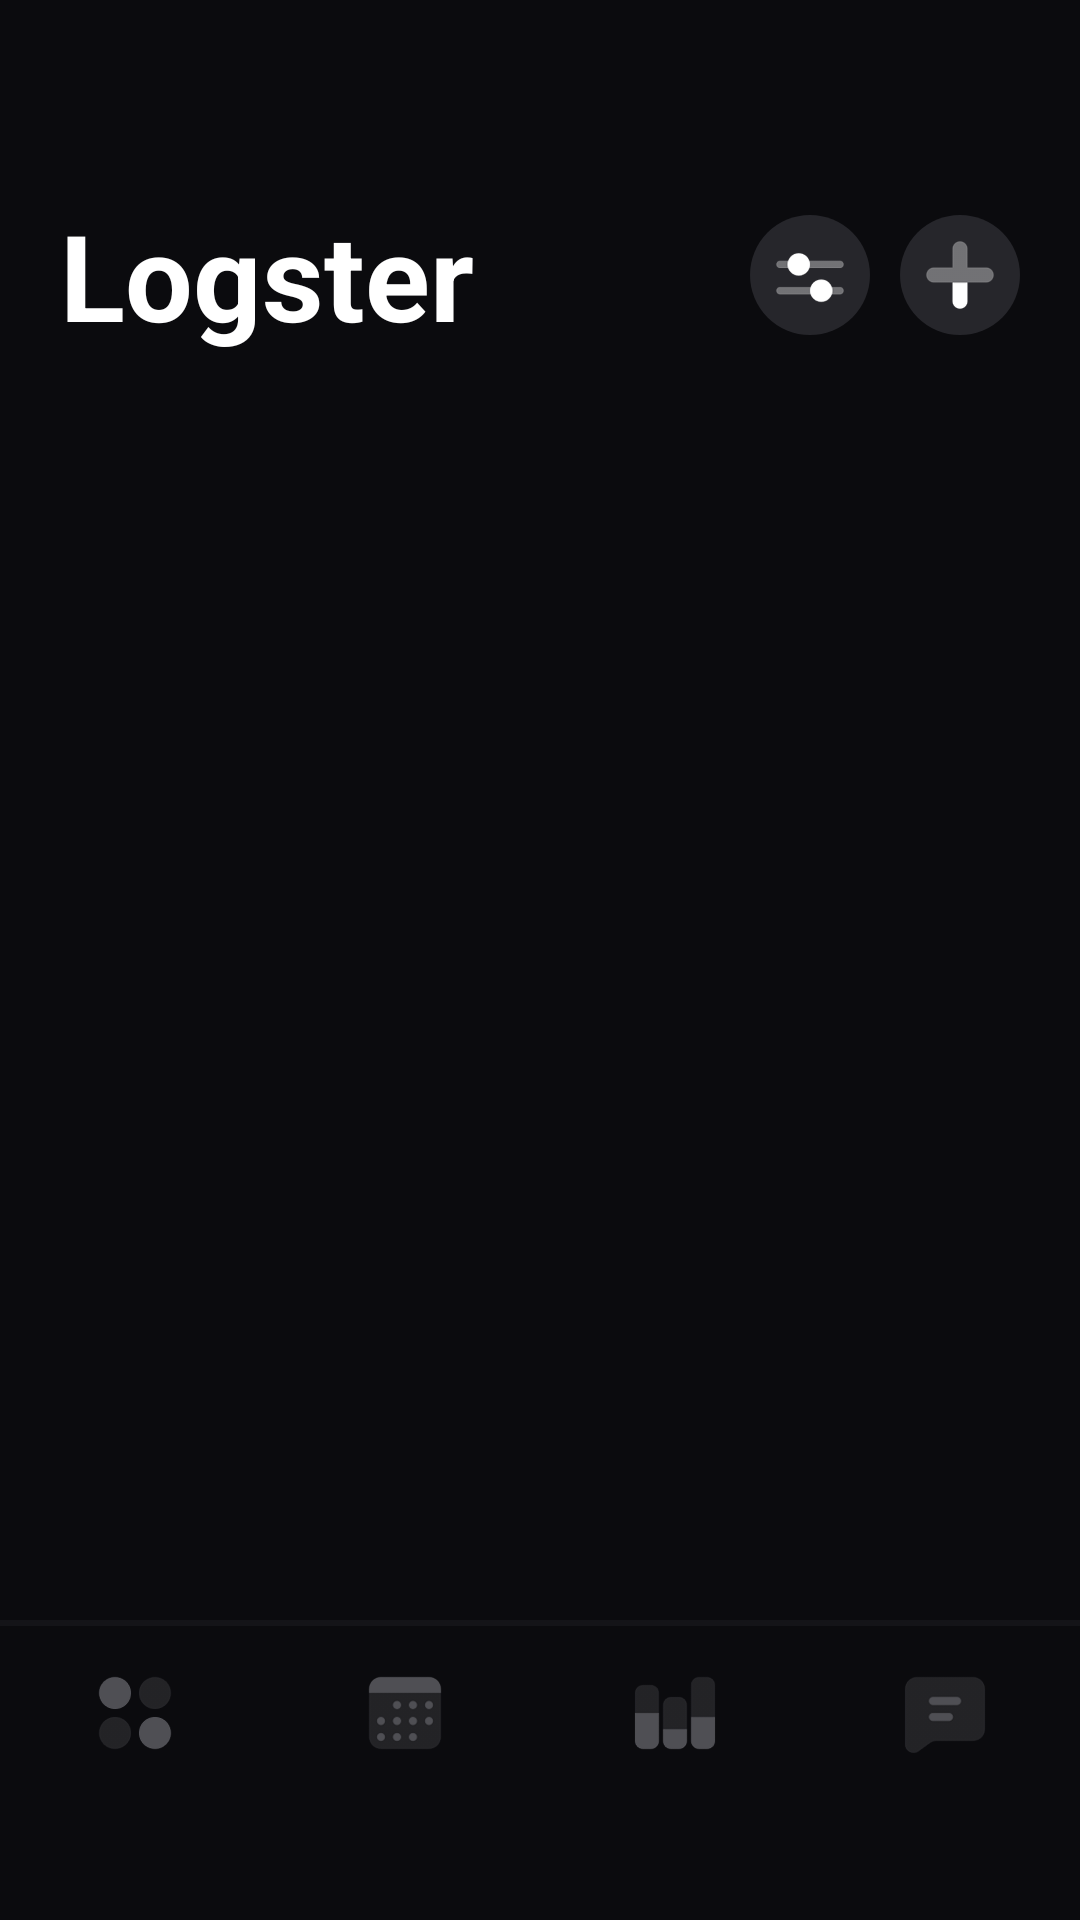

Icon click points for this 1080 x 1920 phone screenshot, format (x=x, y=y):
calendar: (x=405, y=1713)
chat: (x=945, y=1715)
home: (x=135, y=1713)
plus: (x=960, y=275)
settingss: (x=810, y=277)
statistics: (x=675, y=1713)
